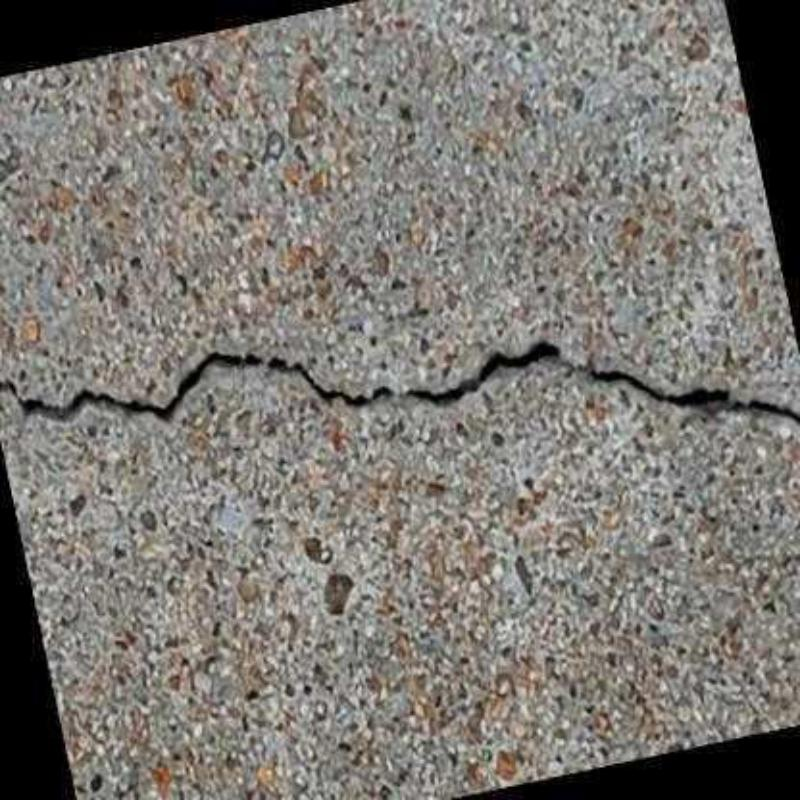pothole: (0, 339, 800, 423)
